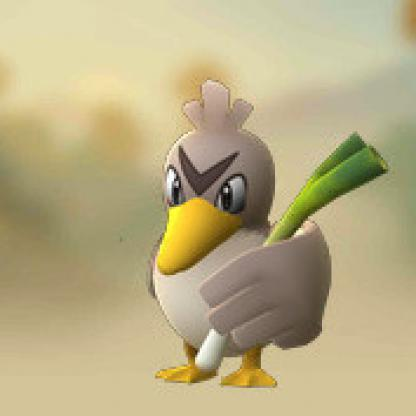Farfetchd: (133, 85, 372, 394)
